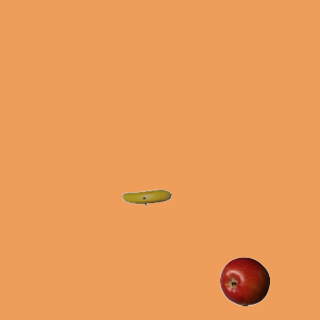Apple Braeburn: (219, 256, 269, 306)
Banana: (121, 172, 171, 222)
